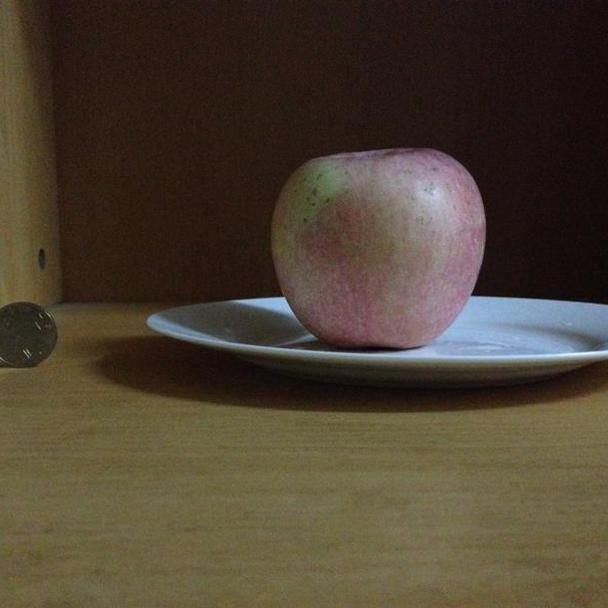apple: (273, 146, 489, 350)
